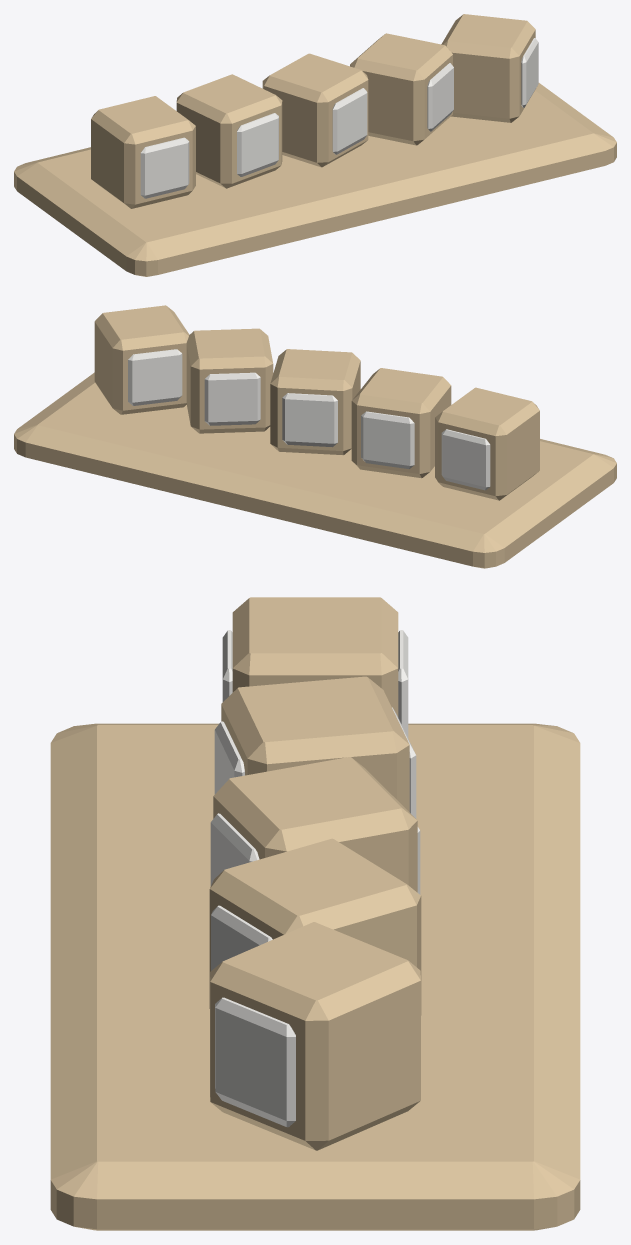
File: clothing-rail-and-wardrobe-size-cube-set-aed858e7__35479.glb
3 renders of one model, top to bottom at view 1: azimuth 30°, elevation 25°; view 2: azimuth 150°, elevation 25°; view 3: azimuth 270°, elevation 25°, orthographic. The views are drawn at different scales.
Visible parts, largest first — view 1: size-cube-set; view 2: size-cube-set; view 3: size-cube-set.
Part boxes in pixels (x1,y1,x2,y2): size-cube-set: [14, 14, 616, 276]; size-cube-set: [14, 305, 616, 568]; size-cube-set: [50, 597, 580, 1230].
Size of the model in its own units: 0.34 by 0.072 by 0.16.
